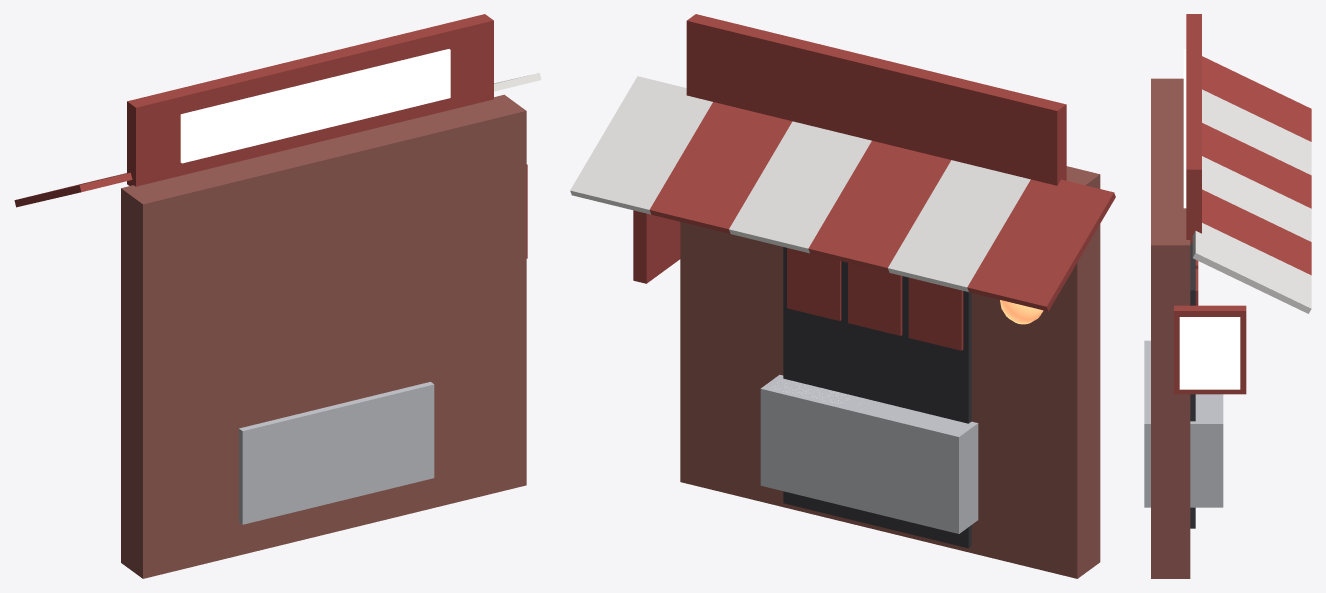
Rendered from prop_mise_niku.glb.
3 renders of one model, left to right at view 1: azimuth 30°, elevation 25°; view 2: azimuth 150°, elevation 25°; view 3: azimuth 270°, elevation 25°, orthographic. The views are drawn at different scales.
Parts seen in each view (by area): view 1: mise_niku; view 2: mise_niku; view 3: mise_niku.
Boxes of the visible parts, left/top/right/bottom form: mise_niku: left=14, top=14, right=541, bottom=578; mise_niku: left=570, top=14, right=1115, bottom=578; mise_niku: left=1144, top=14, right=1311, bottom=578.
Bounding box in the file's own units: 3.6 × 3.39 × 1.27.
